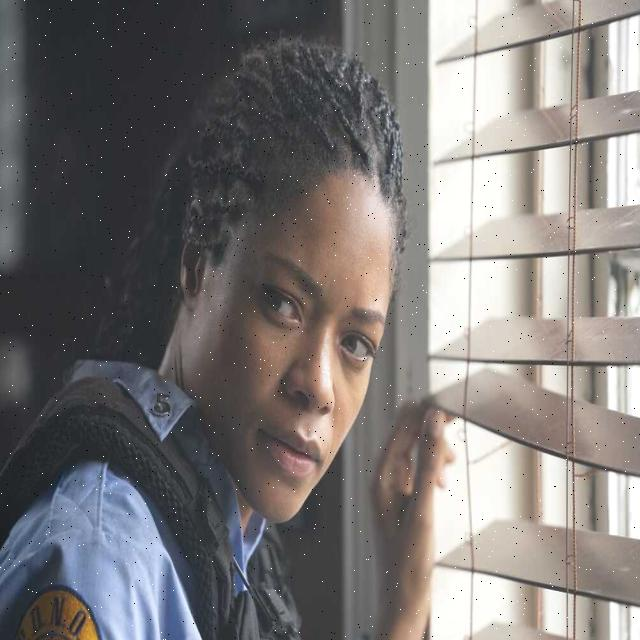police: (0, 0, 443, 640)
